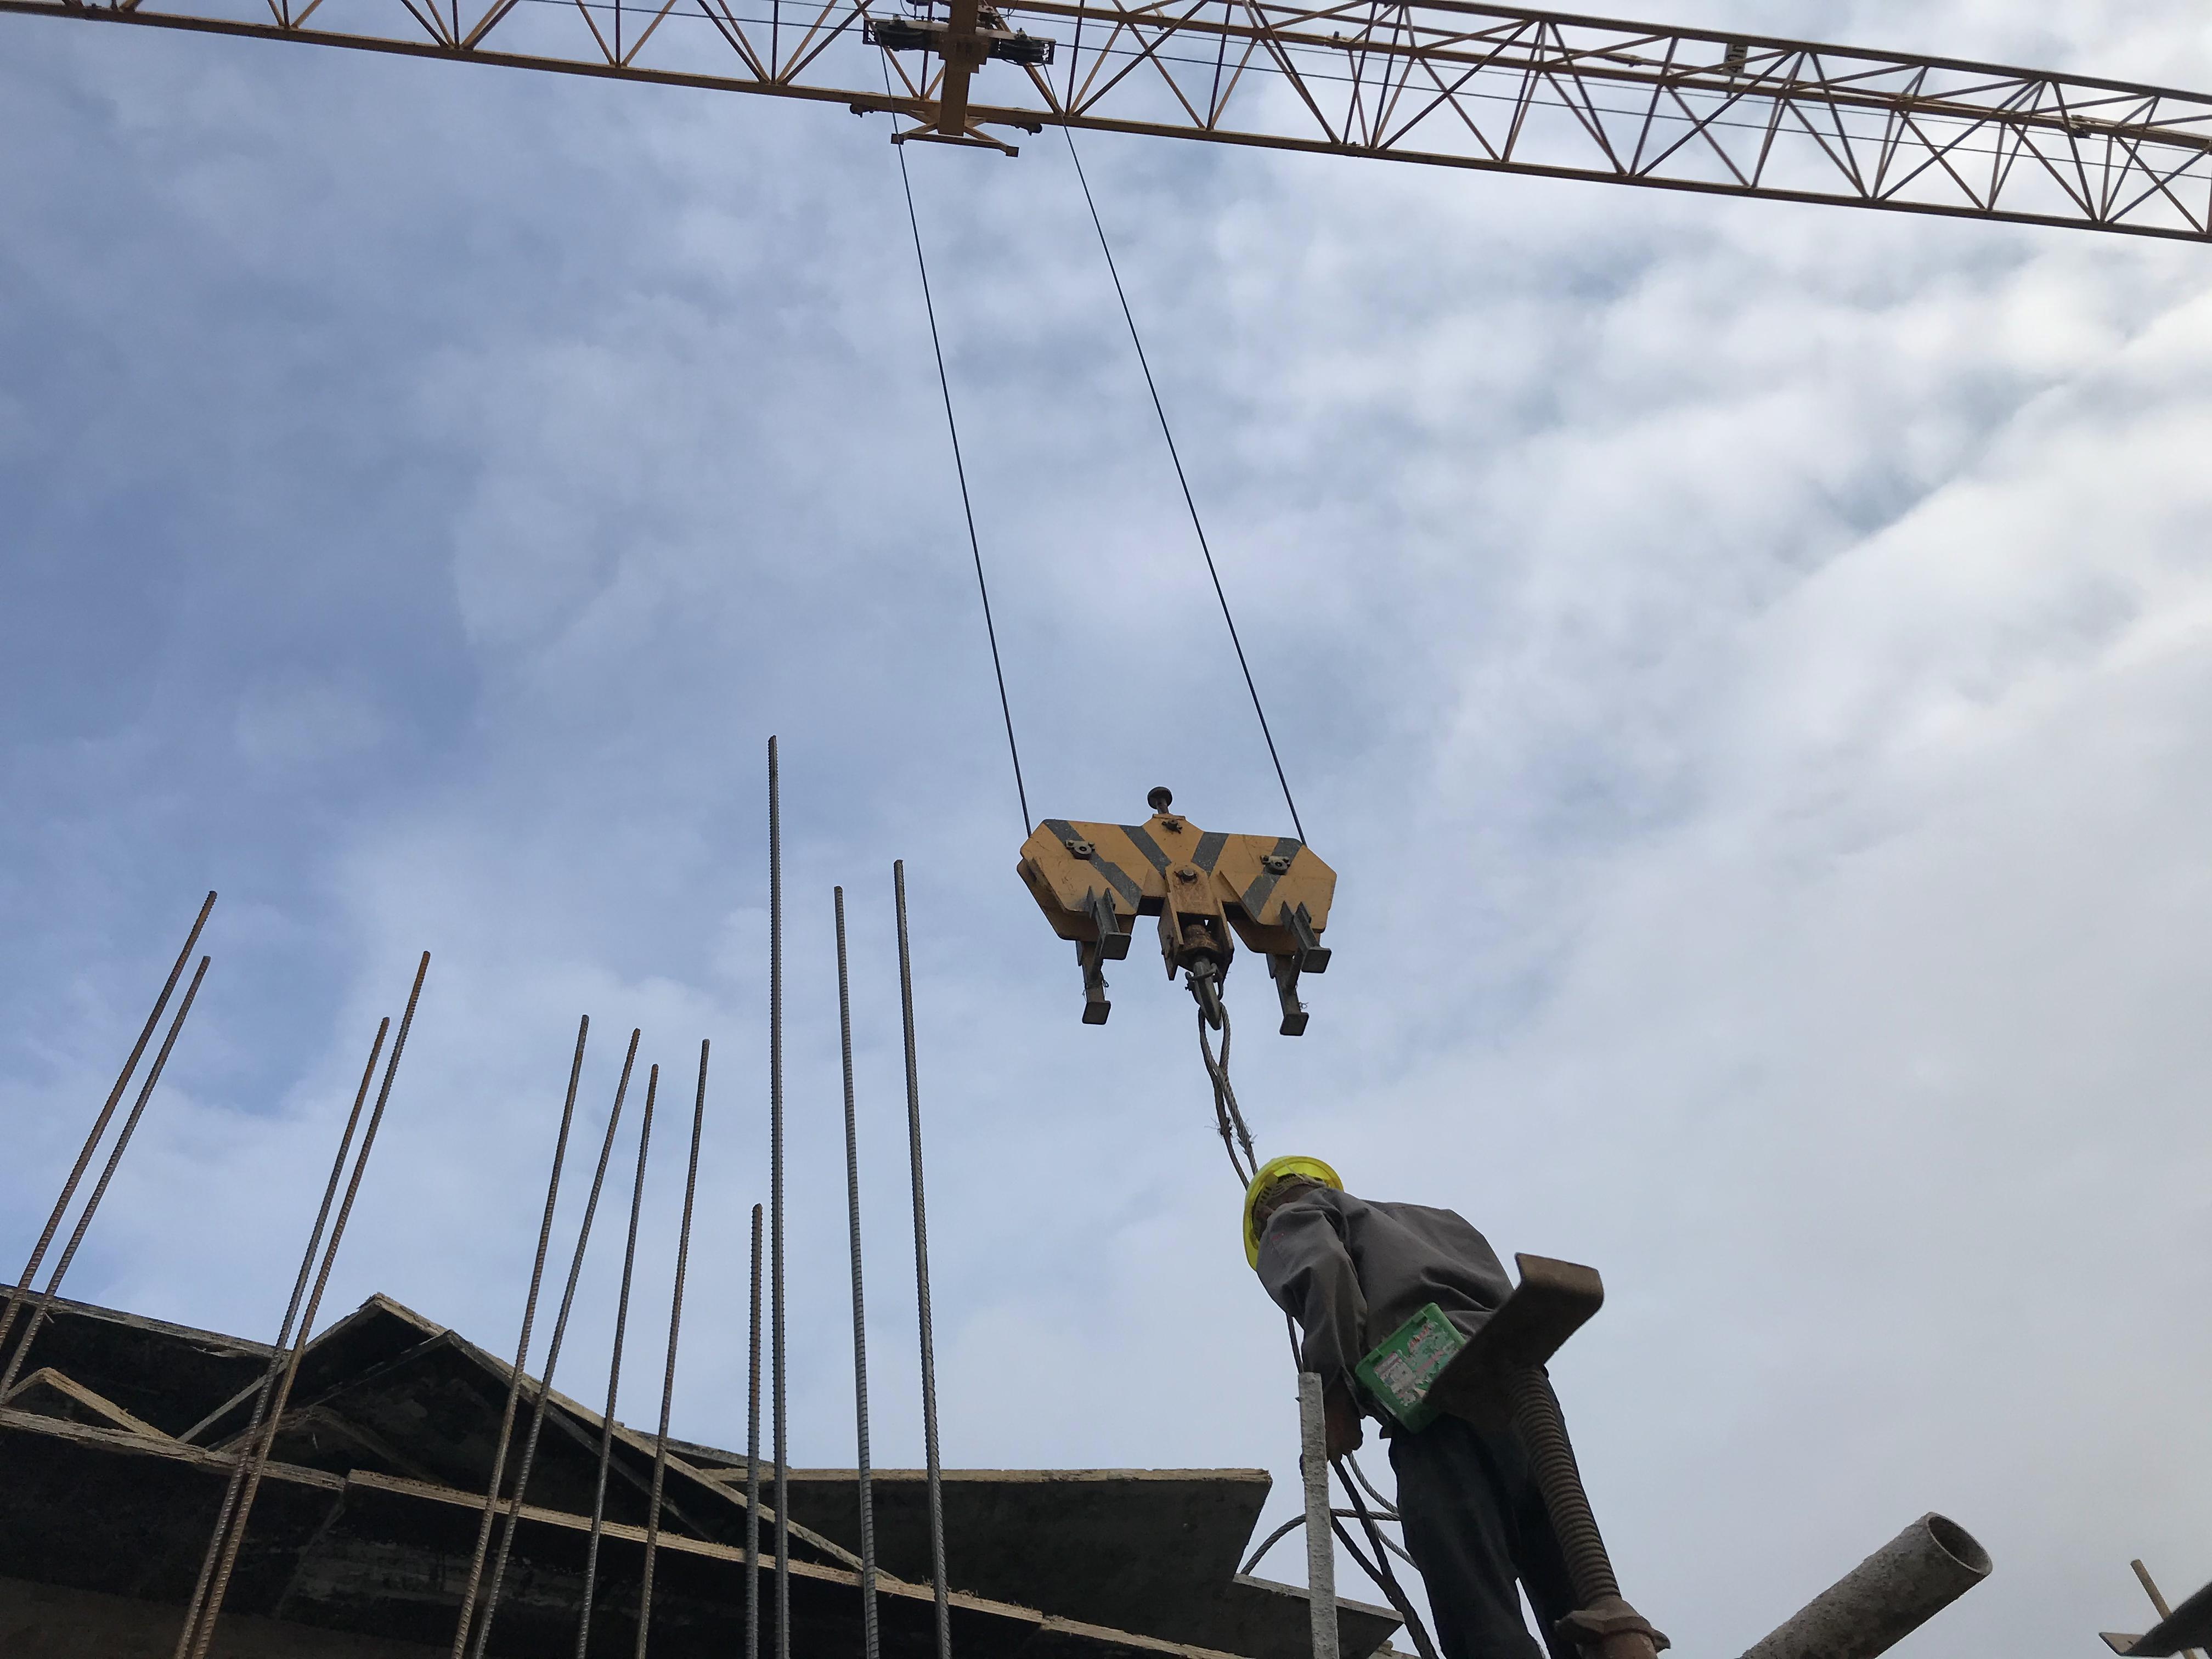board: (1, 1266, 1427, 1659)
helmet: (1231, 1150, 1353, 1277)
hook: (1002, 771, 1363, 1070)
person: (1244, 1154, 1674, 1659)
